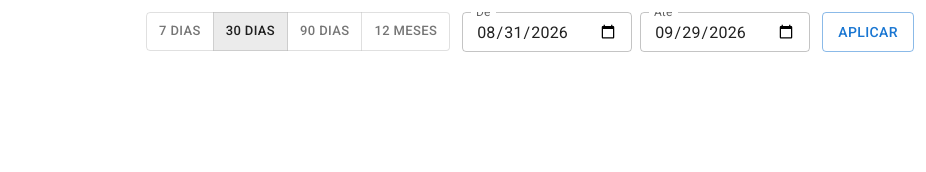
Test case: PeriodFilter › data final antes da inicial mostra erro e não navega
In the date field labelled "De": coordinates (547, 32) [462,12,632,52], type "2026-02-10"
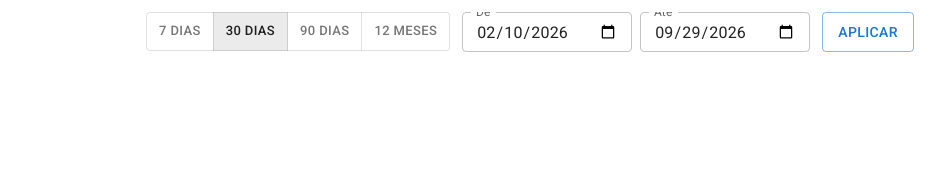
In the date field labelled "Até": coordinates (725, 32) [640,12,810,52], type "2026-02-01"
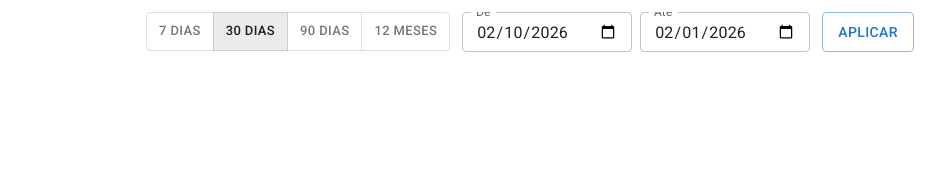
Click the button "Aplicar": coordinates (868, 32) [822,12,914,52]
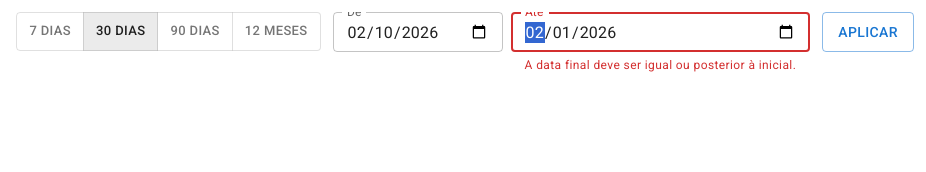
Expected: the text "A data final deve ser igual ou posterior à inicial." is shown, [525,56,796,76]
